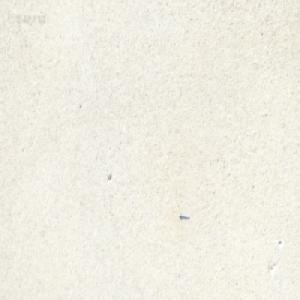Nail: (178, 212, 189, 220)
